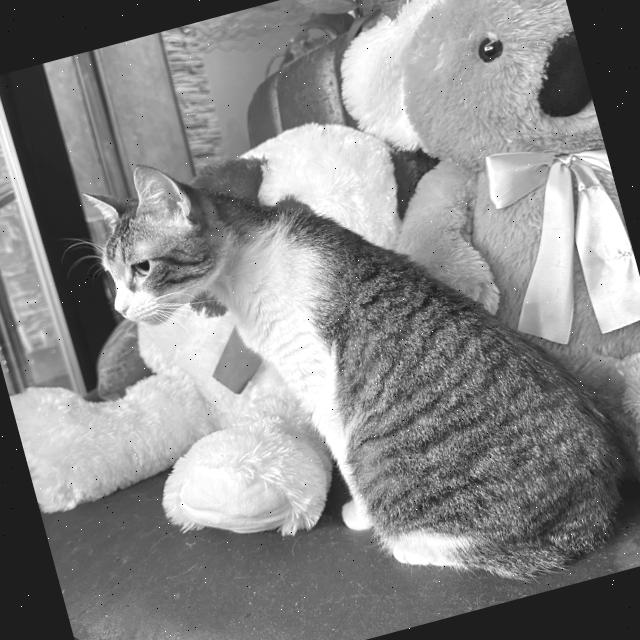manx_cat: (46, 119, 278, 357)
